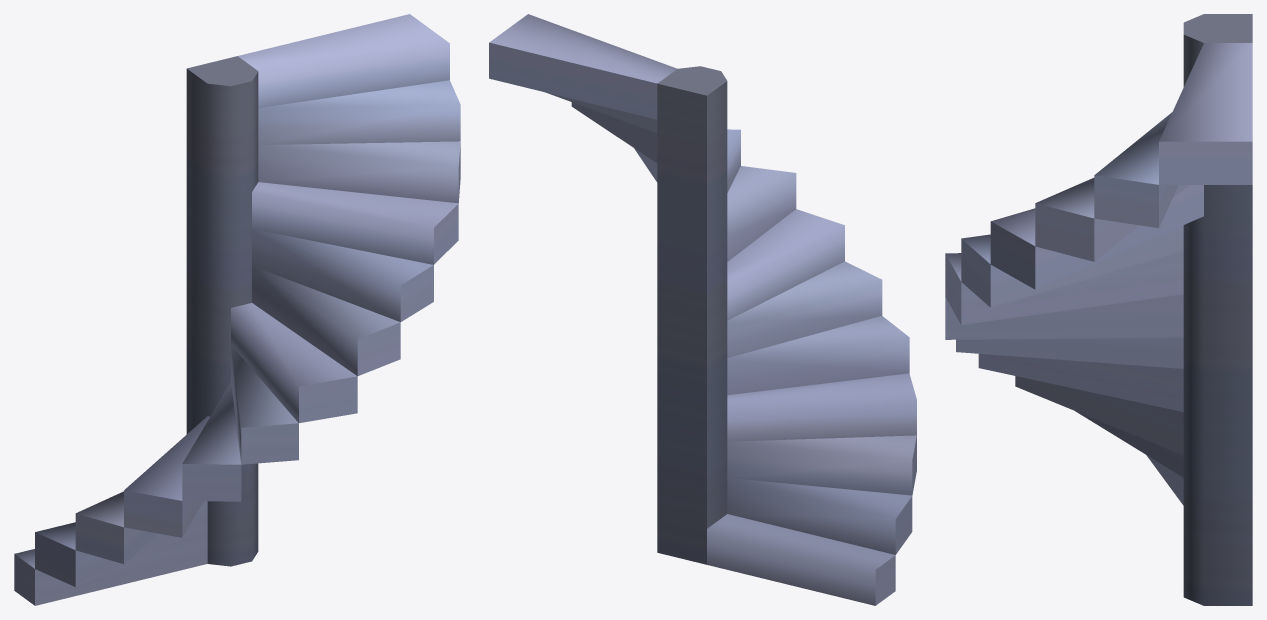
Rendered from stairs-stone-round.glb.
3 renders of one model, left to right at view 1: azimuth 30°, elevation 25°; view 2: azimuth 150°, elevation 25°; view 3: azimuth 270°, elevation 25°, orthographic. The views are drawn at different scales.
Visible parts, largest first — view 1: stairs-stone-round; view 2: stairs-stone-round; view 3: stairs-stone-round.
Boxes of the visible parts, <box> form: stairs-stone-round: <box>14,14,460,605</box>; stairs-stone-round: <box>489,14,916,605</box>; stairs-stone-round: <box>945,14,1252,605</box>.
Size of the model in its own units: 0.8618 by 1 by 0.4949.
1 material, 1 textured.
